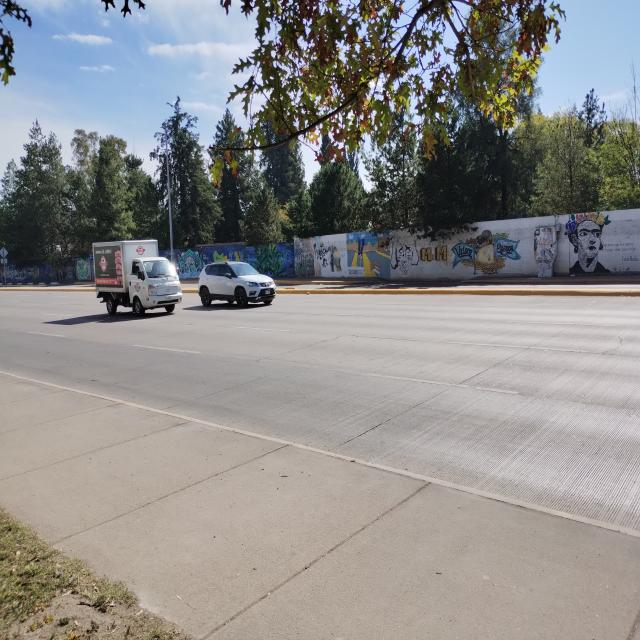Auto: (91, 234, 184, 314), (198, 260, 277, 308)
